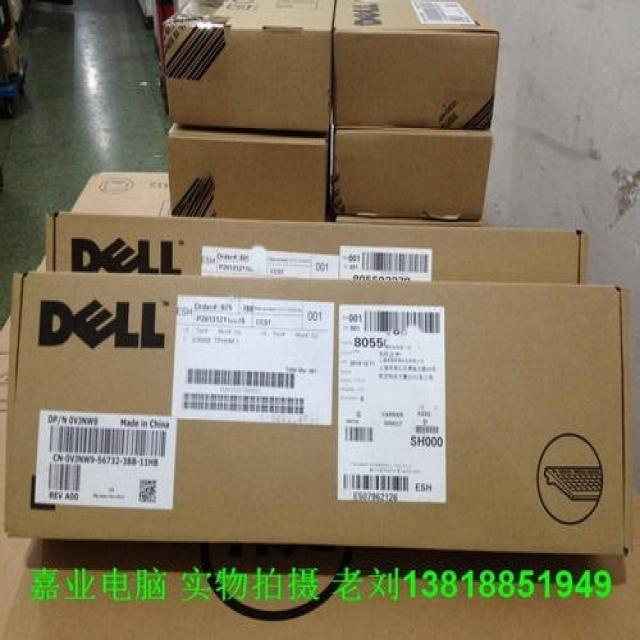box: (4, 271, 632, 556), (38, 478, 640, 638), (45, 213, 589, 285), (164, 0, 337, 133), (333, 0, 500, 130), (168, 123, 328, 222), (333, 128, 492, 227), (0, 314, 42, 640), (70, 171, 173, 217)
